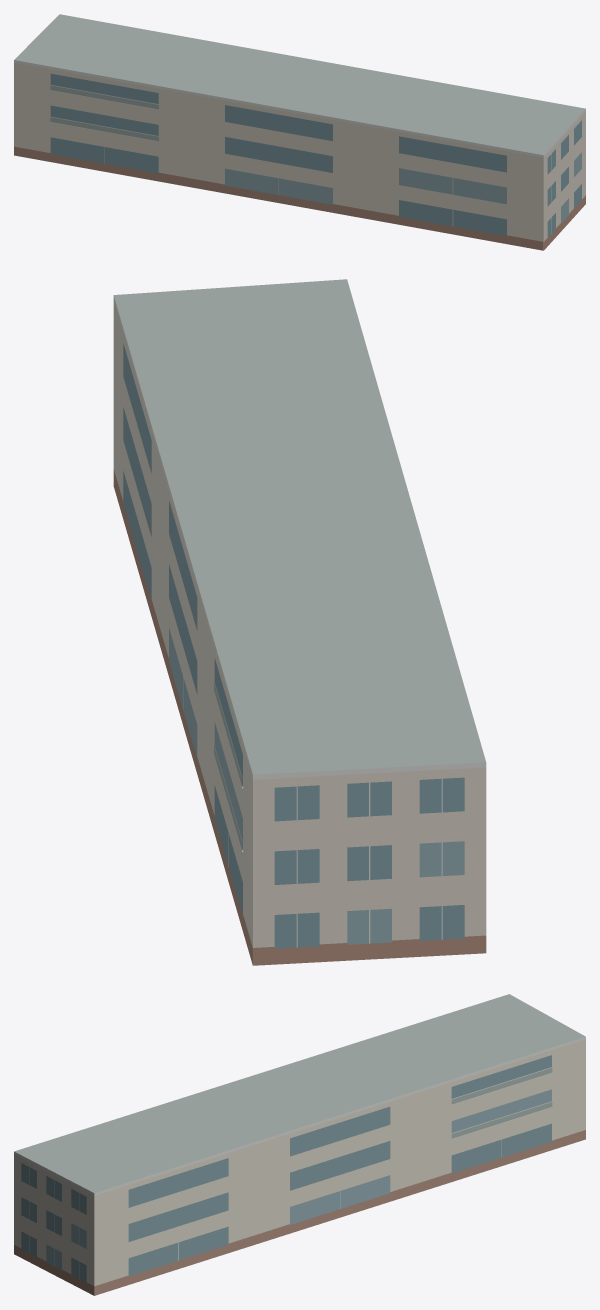
The model's file is survey-upis-32585404.glb.
3 renders of one model, top to bottom at view 1: azimuth 30°, elevation 25°; view 2: azimuth 150°, elevation 25°; view 3: azimuth 270°, elevation 25°, orthographic. The views are drawn at different scales.
Visible parts, largest first — view 1: survey-upis-32585404.tmp; view 2: survey-upis-32585404.tmp; view 3: survey-upis-32585404.tmp.
Boxes of the visible parts, x1,y1,x2,y2 form: survey-upis-32585404.tmp: (14, 14, 585, 250); survey-upis-32585404.tmp: (113, 279, 486, 965); survey-upis-32585404.tmp: (14, 994, 585, 1295).
Bounding box in the file's own units: 38.02 × 9.15 × 46.15.
